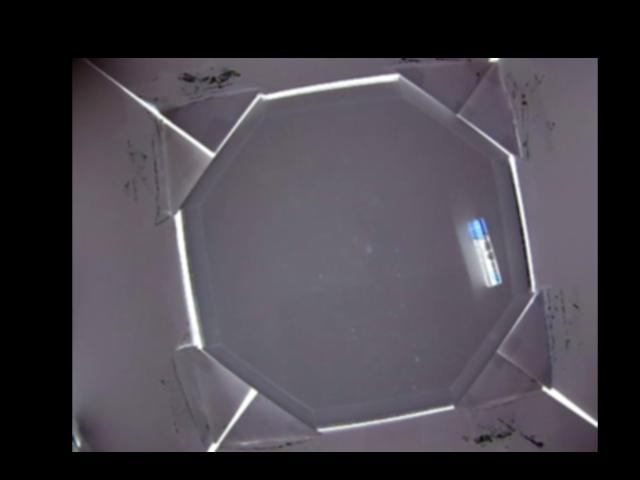Battery: (468, 216, 502, 287)
